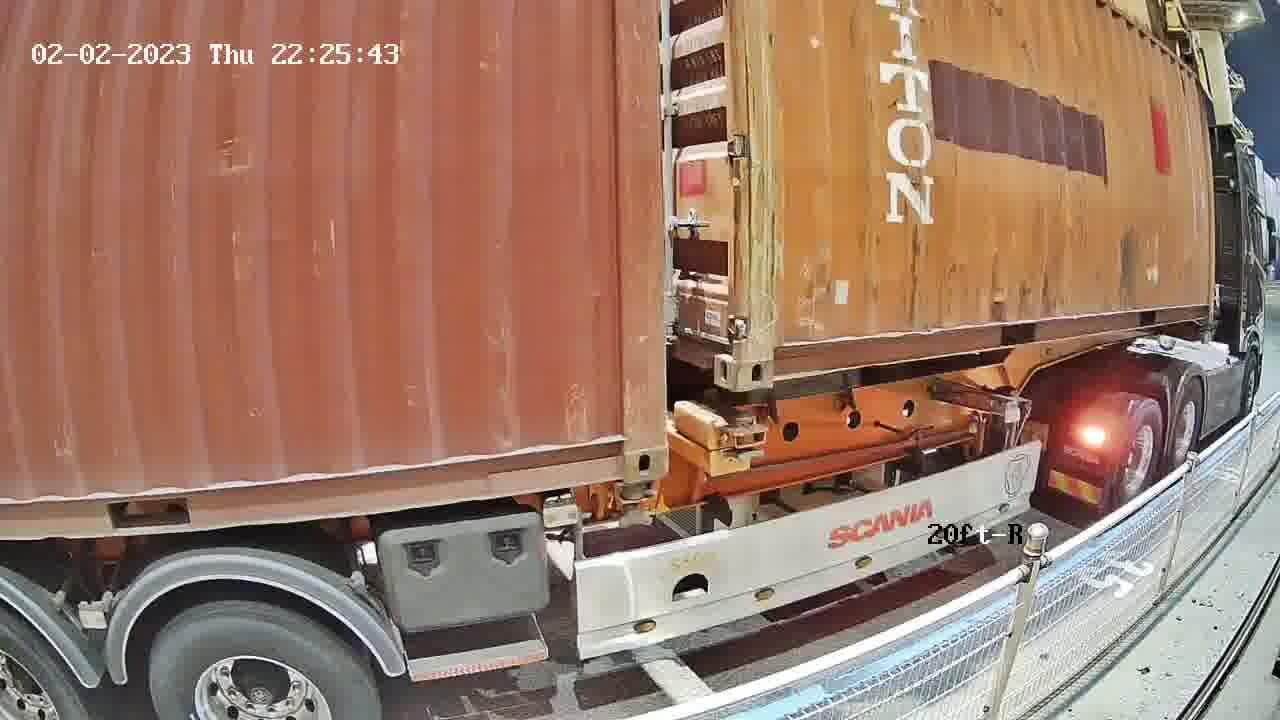Cone: (616, 480, 657, 532), (719, 409, 767, 449)
Hole_L: (741, 306, 808, 387)
Hole_R: (585, 412, 666, 484), (688, 305, 741, 388)
Tire: (1120, 403, 1162, 506), (1170, 379, 1204, 478)
